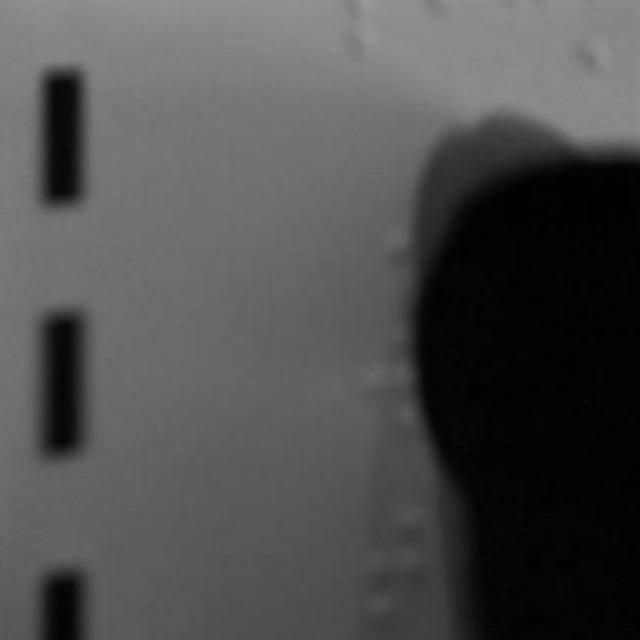braiile: (366, 498, 430, 640), (362, 314, 422, 444)
